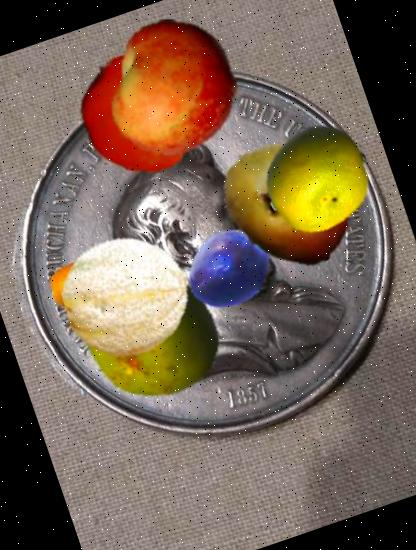Cantaloupe: (48, 216, 208, 376)
Clementine: (60, 33, 219, 191)
Kumquats: (40, 243, 119, 322)
Nectarine: (88, 0, 262, 173)
Papaya: (203, 118, 375, 290)
Plum: (176, 215, 284, 323)
Pomelo: (63, 246, 238, 420), (250, 110, 386, 246)
